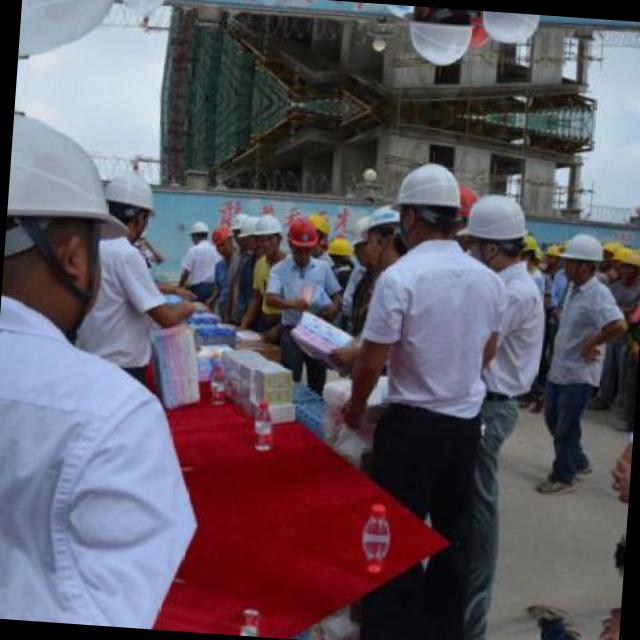helmet: (2, 104, 124, 322), (18, 0, 133, 74), (384, 154, 464, 250), (459, 188, 529, 272), (396, 5, 474, 73), (105, 164, 159, 242), (474, 10, 542, 50), (363, 201, 404, 262), (562, 231, 605, 285), (286, 214, 318, 260), (234, 212, 266, 258), (324, 233, 356, 276), (347, 214, 372, 268), (253, 212, 282, 258), (120, 0, 173, 22), (615, 247, 640, 284), (209, 222, 233, 259), (185, 216, 209, 247), (379, 3, 418, 21)
